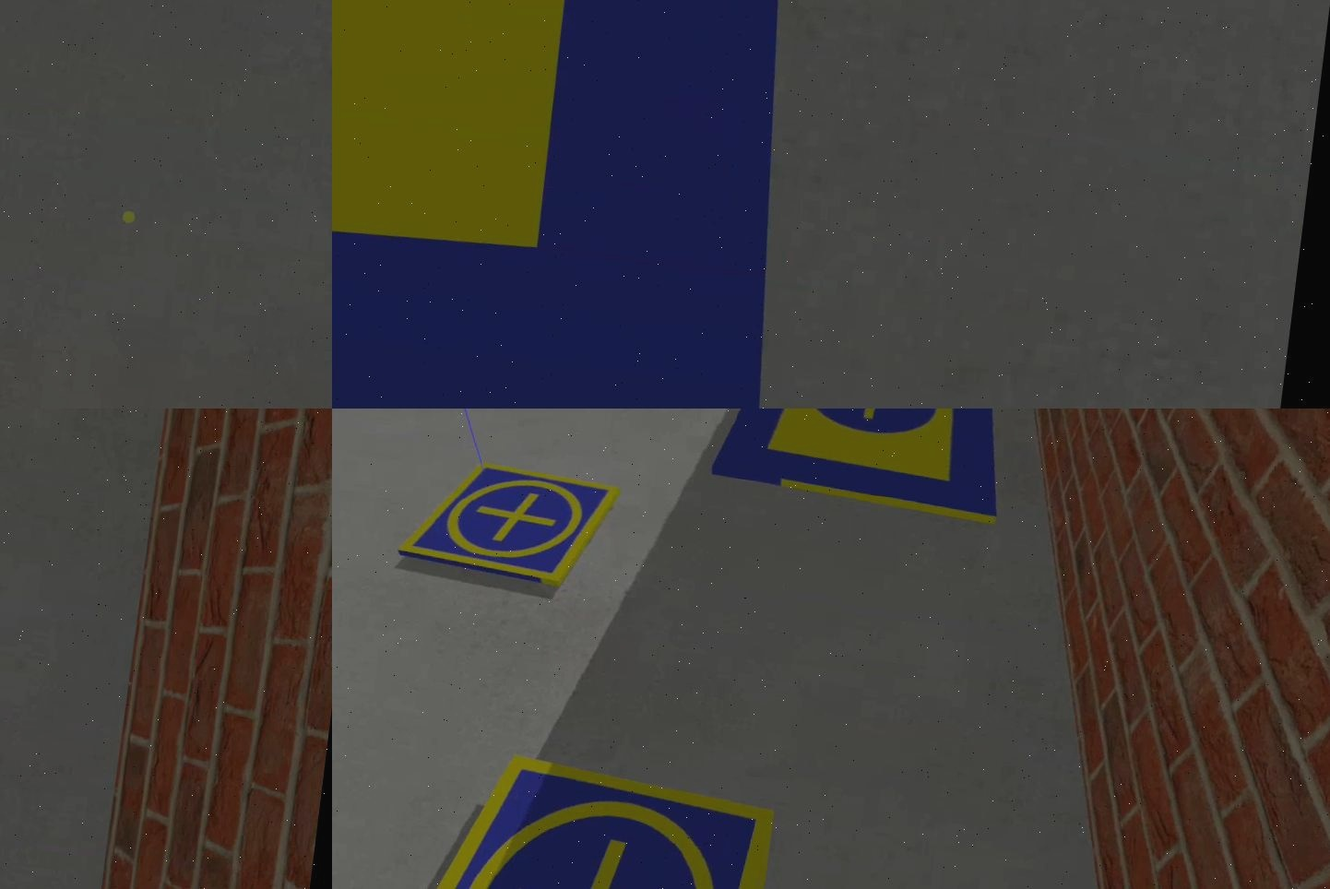large_base: (333, 1, 864, 409), (707, 409, 1017, 524)
small_base: (387, 741, 781, 889), (398, 446, 620, 597)
